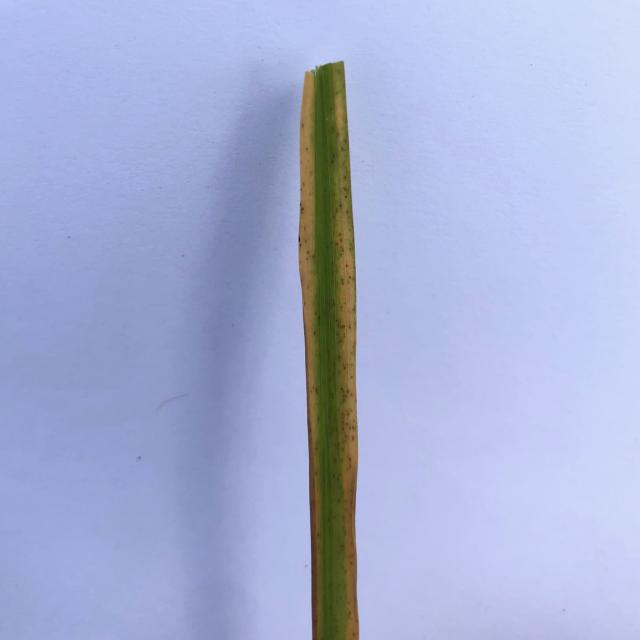tungro: (300, 65, 323, 640), (337, 59, 355, 640)
